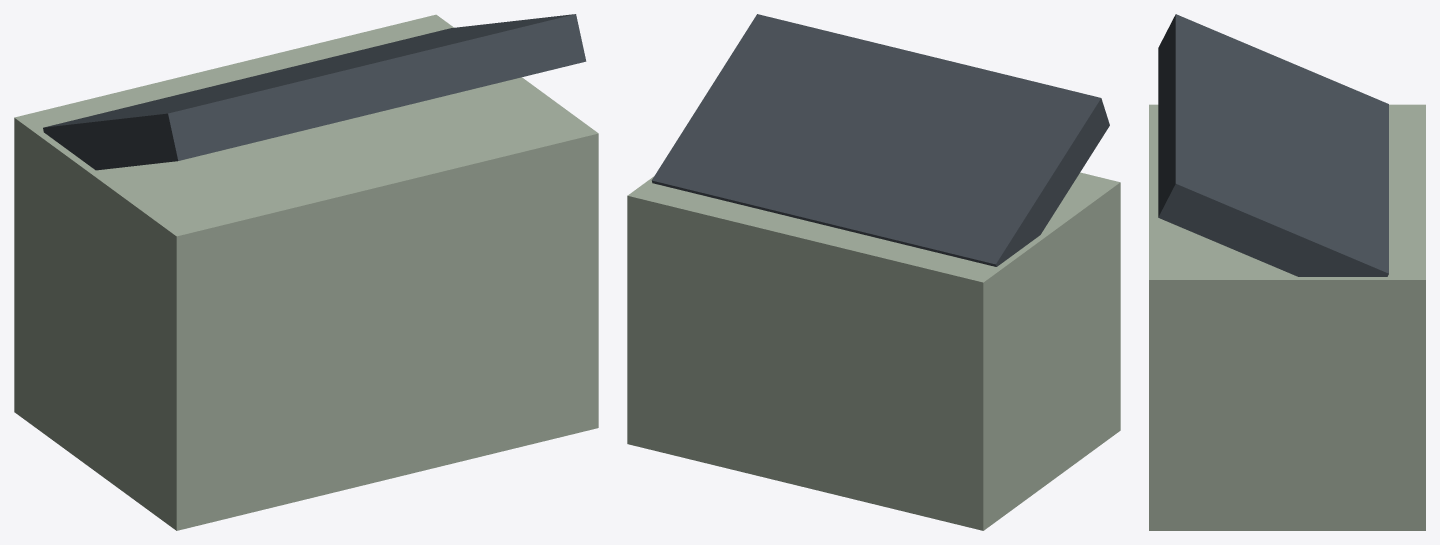
File: SH_ConsoleModule_01.glb
3 views of the same model, side by side, from view 1: azimuth 30°, elevation 25°; view 2: azimuth 150°, elevation 25°; view 3: azimuth 270°, elevation 25° (orthographic). The views are drawn at different scales.
Parts seen in each view (by area): view 1: SH_ConsoleModule_01; view 2: SH_ConsoleModule_01; view 3: SH_ConsoleModule_01.
Boxes of the visible parts, x1,y1,x2,y2 form: SH_ConsoleModule_01: (14,14,598,530); SH_ConsoleModule_01: (627,14,1120,530); SH_ConsoleModule_01: (1149,14,1425,530).
Size of the model in its own units: 0.6 by 0.549 by 0.4.
1 material, 1 textured.
